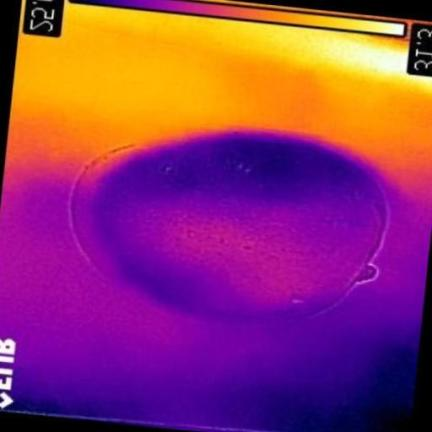mango: (72, 133, 386, 321)
